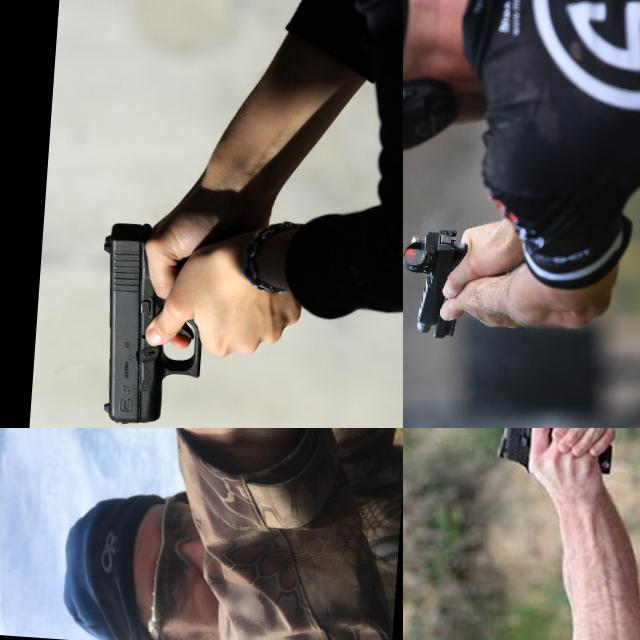handgun: (0, 428, 199, 590), (86, 215, 211, 428), (403, 220, 470, 341), (493, 428, 570, 507)
